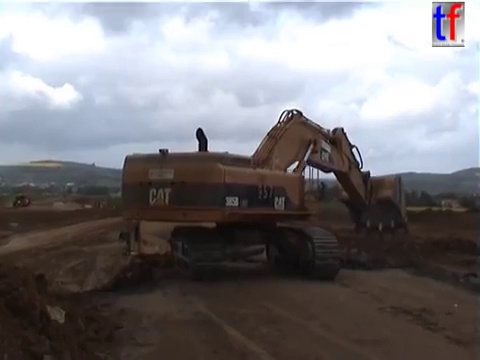excavator: (117, 105, 412, 282)
truck: (115, 211, 267, 289), (12, 192, 31, 209)
